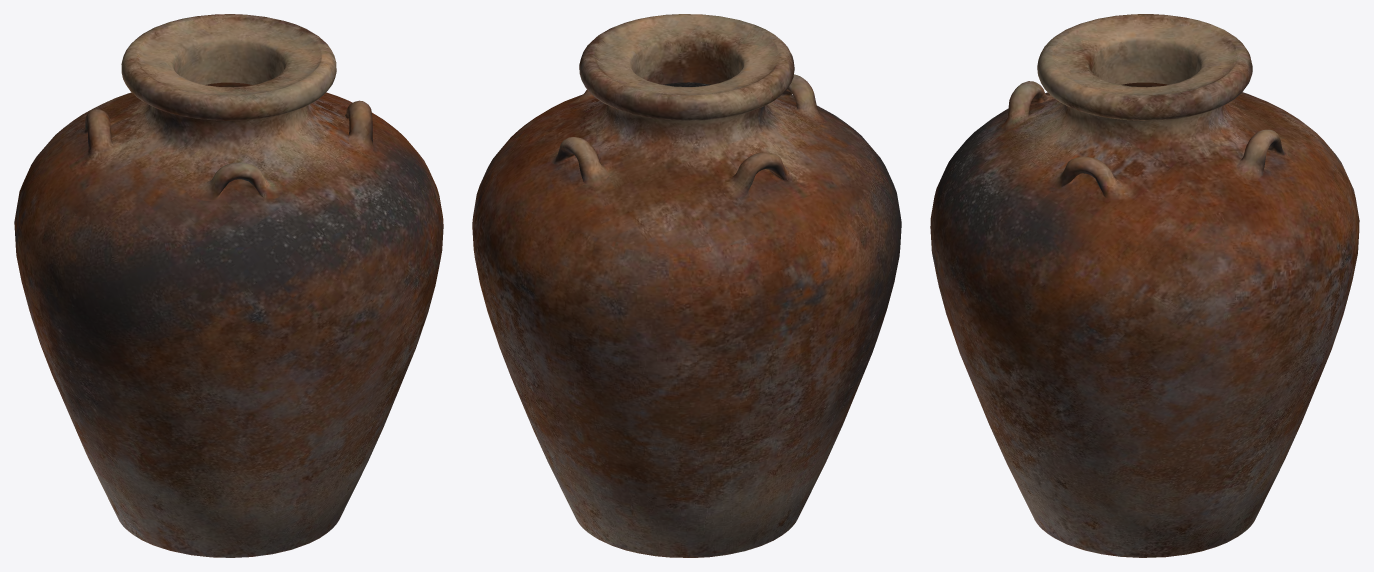
File: 老罐子4.fbx
The picture shows the model from 3 angles, left to right: view 1: azimuth 30°, elevation 25°; view 2: azimuth 150°, elevation 25°; view 3: azimuth 270°, elevation 25°; orthographic projection.
Visible parts, largest first — view 1: 3d66-Editable_Poly-32443966-011; view 2: 3d66-Editable_Poly-32443966-011; view 3: 3d66-Editable_Poly-32443966-011.
Boxes of the visible parts, bbox=[...] form: 3d66-Editable_Poly-32443966-011: bbox=[14, 14, 443, 557]; 3d66-Editable_Poly-32443966-011: bbox=[472, 14, 901, 557]; 3d66-Editable_Poly-32443966-011: bbox=[930, 14, 1359, 557].
Size of the model in its own units: 156 by 182 by 156.
1 material, 1 textured.
